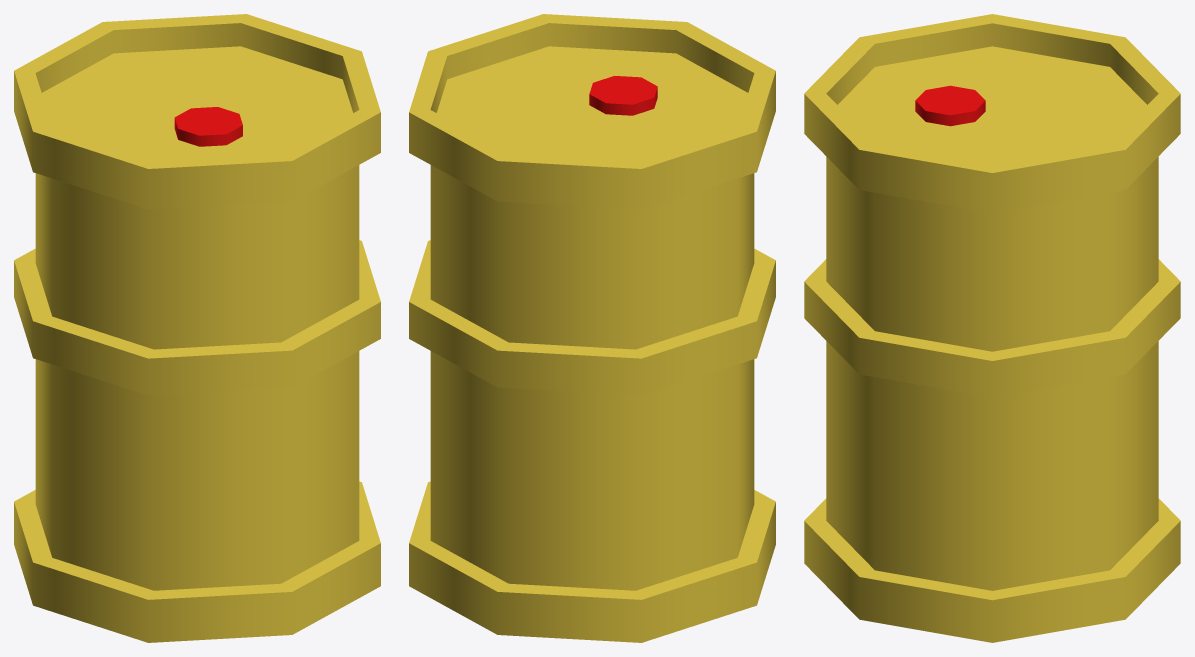
File: Barril.fbx
3 renders of one model, left to right at view 1: azimuth 30°, elevation 25°; view 2: azimuth 150°, elevation 25°; view 3: azimuth 270°, elevation 25°, orthographic.
Visible parts, largest first — view 1: Cylinder001, Cylinder002; view 2: Cylinder001, Cylinder002; view 3: Cylinder001, Cylinder002.
Part boxes in pixels (left/top/right/bottom): Cylinder001: left=14, top=14, right=380, bottom=642; Cylinder002: left=174, top=107, right=242, bottom=146; Cylinder001: left=409, top=14, right=775, bottom=642; Cylinder002: left=589, top=76, right=657, bottom=115; Cylinder001: left=804, top=14, right=1180, bottom=642; Cylinder002: left=915, top=85, right=985, bottom=126.
Size of the model in its own units: 37.01 by 50.95 by 37.01.
Materials: 2 (2 with a texture image).
